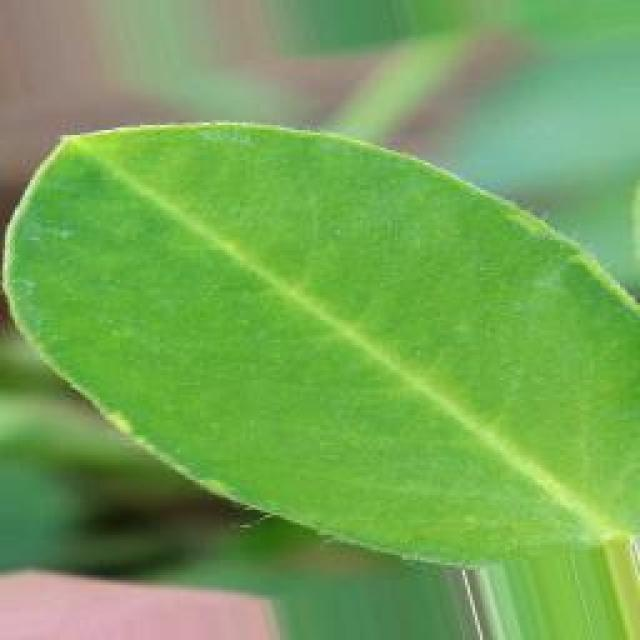Yellow_and_black_sigatoka: (0, 118, 640, 552)
